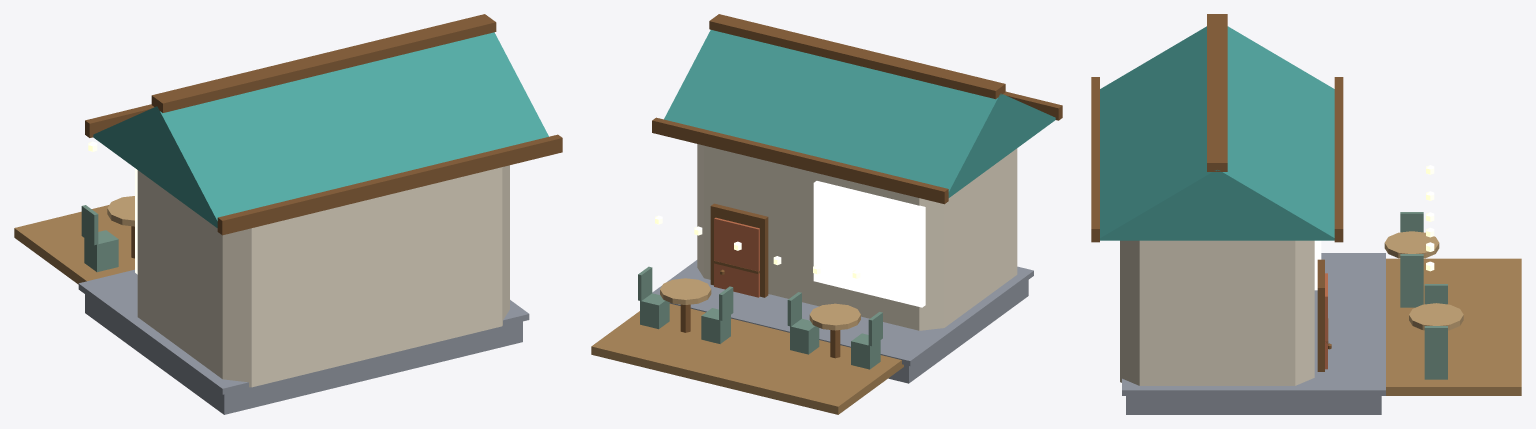
The model's file is xy_house_cafe.glb.
3 views of the same model, side by side, from view 1: azimuth 30°, elevation 25°; view 2: azimuth 150°, elevation 25°; view 3: azimuth 270°, elevation 25° (orthographic). The views are drawn at different scales.
Parts seen in each view (by area): view 1: House; view 2: House; view 3: House.
Boxes of the visible parts, left/top/right/bottom form: House: left=14, top=14, right=562, bottom=414; House: left=591, top=14, right=1062, bottom=414; House: left=1091, top=14, right=1521, bottom=414.
Bounding box in the file's own units: 5.92 × 4.71 × 7.07.
